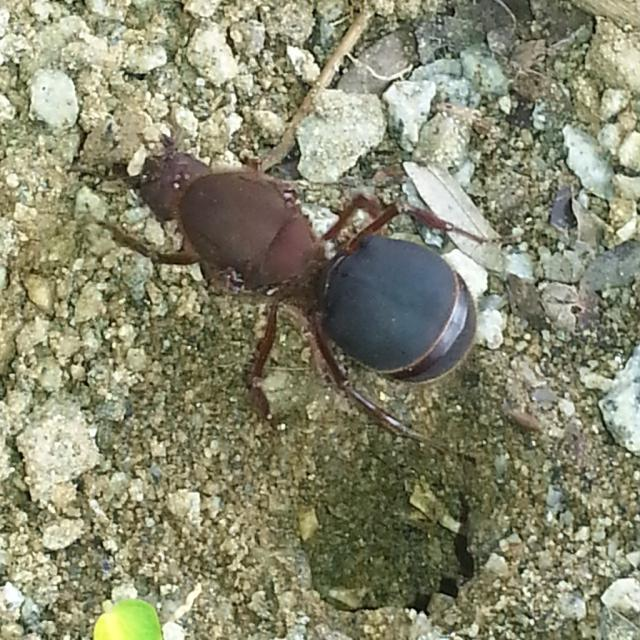Alive-Female-Dealate: (66, 105, 517, 467)
